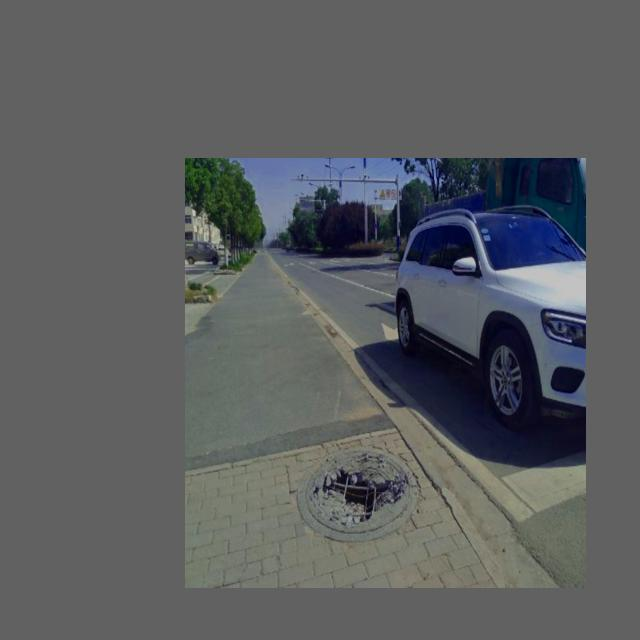broke: (297, 446, 419, 542)
